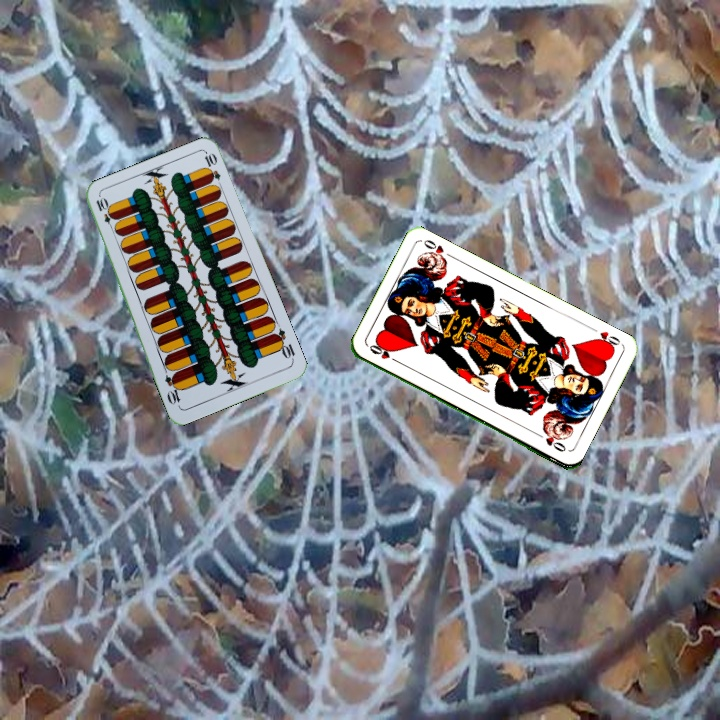E10: (269, 325, 298, 364), (92, 194, 117, 233)
HO: (365, 341, 402, 366), (590, 327, 624, 352)
